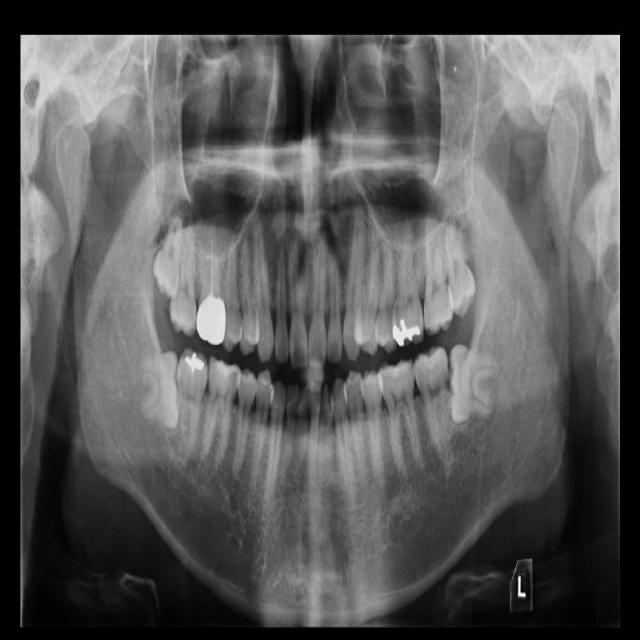3M ESPE Implant: (152, 216, 183, 298)
52: (389, 294, 425, 348), (197, 296, 226, 346)
73: (189, 223, 225, 309), (586, 592, 598, 602)
BioHorizons Implant: (423, 217, 454, 336)
BioLife Implant: (440, 214, 480, 318)
Biomet 3i Implant: (445, 342, 500, 426)
Blue Sky Bio Implant: (412, 346, 452, 466)
Caries: (165, 208, 198, 339)
Implant: (169, 347, 211, 466)
Keystone Dental Implant: (134, 350, 182, 430)
